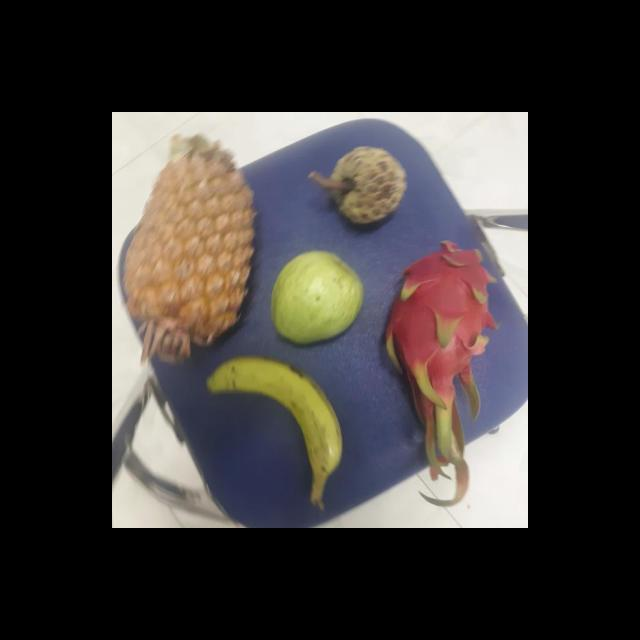Sakya fruit: (330, 148, 410, 228)
banana: (210, 358, 348, 482)
guava: (270, 252, 368, 344)
pitaya: (388, 244, 501, 396)
